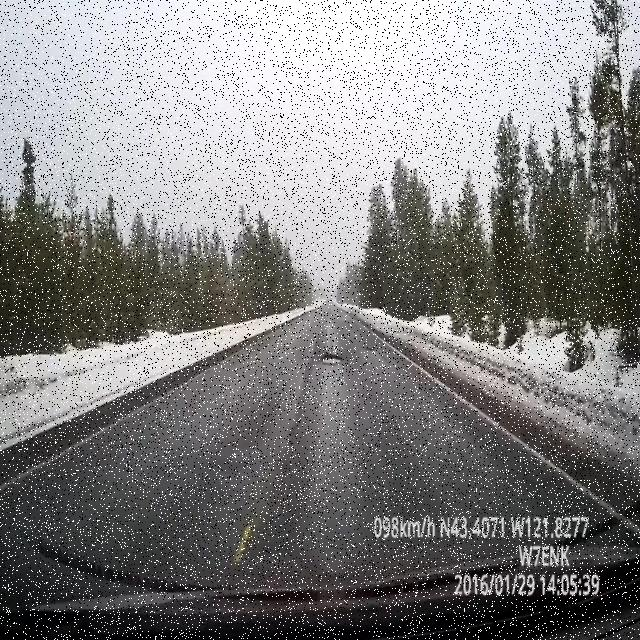pothole: (321, 354, 343, 365)
